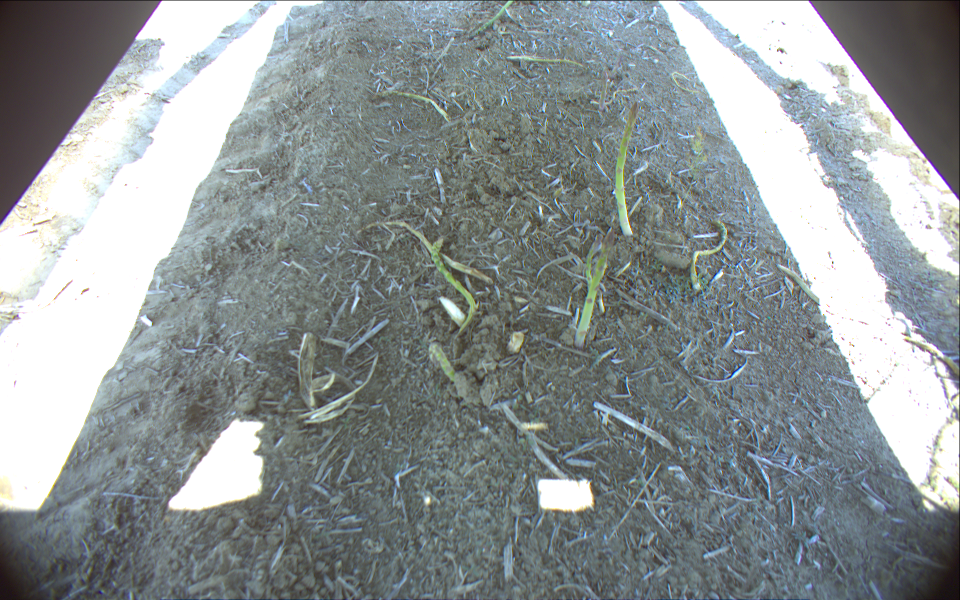aspa: (569, 226, 618, 351), (616, 100, 642, 237), (422, 338, 460, 390)
